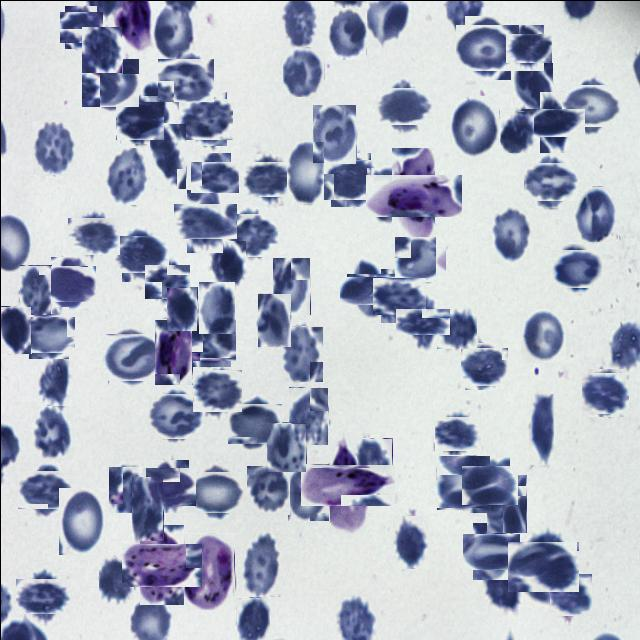difficult: (130, 534, 192, 596)
red blood cell: (512, 535, 573, 596), (58, 487, 104, 554), (450, 95, 499, 156), (460, 20, 514, 74), (104, 330, 158, 383), (83, 55, 137, 108), (436, 454, 488, 508), (241, 530, 282, 596), (312, 103, 356, 163), (566, 80, 616, 131), (573, 185, 618, 241), (520, 307, 565, 363), (278, 325, 323, 381), (103, 147, 147, 204), (150, 390, 200, 440), (190, 466, 240, 516), (160, 54, 210, 104), (149, 122, 186, 188), (287, 462, 329, 520), (180, 196, 228, 246), (490, 206, 532, 263), (32, 120, 76, 174), (395, 234, 443, 283), (226, 210, 274, 259), (288, 386, 328, 444), (486, 474, 526, 532), (230, 399, 278, 447), (181, 94, 229, 142), (465, 460, 513, 508), (286, 142, 323, 204), (379, 82, 426, 130), (186, 316, 233, 363), (467, 527, 514, 574), (116, 230, 164, 276), (272, 256, 310, 314), (21, 466, 68, 512), (326, 156, 373, 202), (526, 157, 572, 204), (152, 4, 192, 58), (244, 465, 288, 514), (194, 367, 240, 413), (146, 462, 192, 508), (25, 309, 71, 355), (70, 212, 116, 258), (376, 272, 422, 318), (282, 46, 324, 96), (131, 475, 163, 540), (513, 62, 552, 115), (327, 7, 366, 59), (46, 260, 91, 305), (531, 99, 576, 144), (20, 572, 64, 618), (266, 422, 306, 472), (582, 370, 627, 414), (345, 267, 390, 311), (31, 409, 73, 456), (356, 437, 392, 491), (554, 246, 598, 290), (116, 98, 160, 142), (392, 515, 428, 568), (366, 167, 400, 223), (247, 157, 290, 201), (198, 281, 234, 333), (462, 344, 505, 387), (81, 26, 121, 72), (256, 292, 290, 346), (208, 240, 245, 289), (108, 465, 146, 512), (434, 412, 476, 454), (548, 573, 590, 615), (98, 555, 134, 603), (528, 394, 552, 466), (436, 306, 476, 348), (37, 358, 72, 405), (194, 156, 234, 196), (146, 260, 186, 300), (402, 301, 442, 341), (19, 264, 51, 314), (236, 596, 270, 640), (0, 305, 31, 353), (484, 567, 518, 610), (509, 28, 547, 66), (500, 110, 534, 152), (166, 286, 197, 330), (62, 8, 98, 45)
trophozoite: (378, 160, 447, 230), (313, 450, 381, 518), (184, 532, 234, 609), (154, 318, 192, 384)
